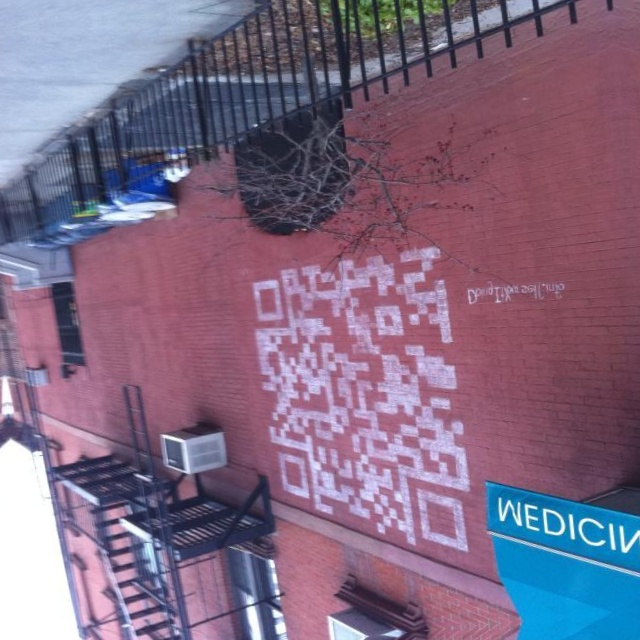qr-code: (245, 246, 478, 588)
